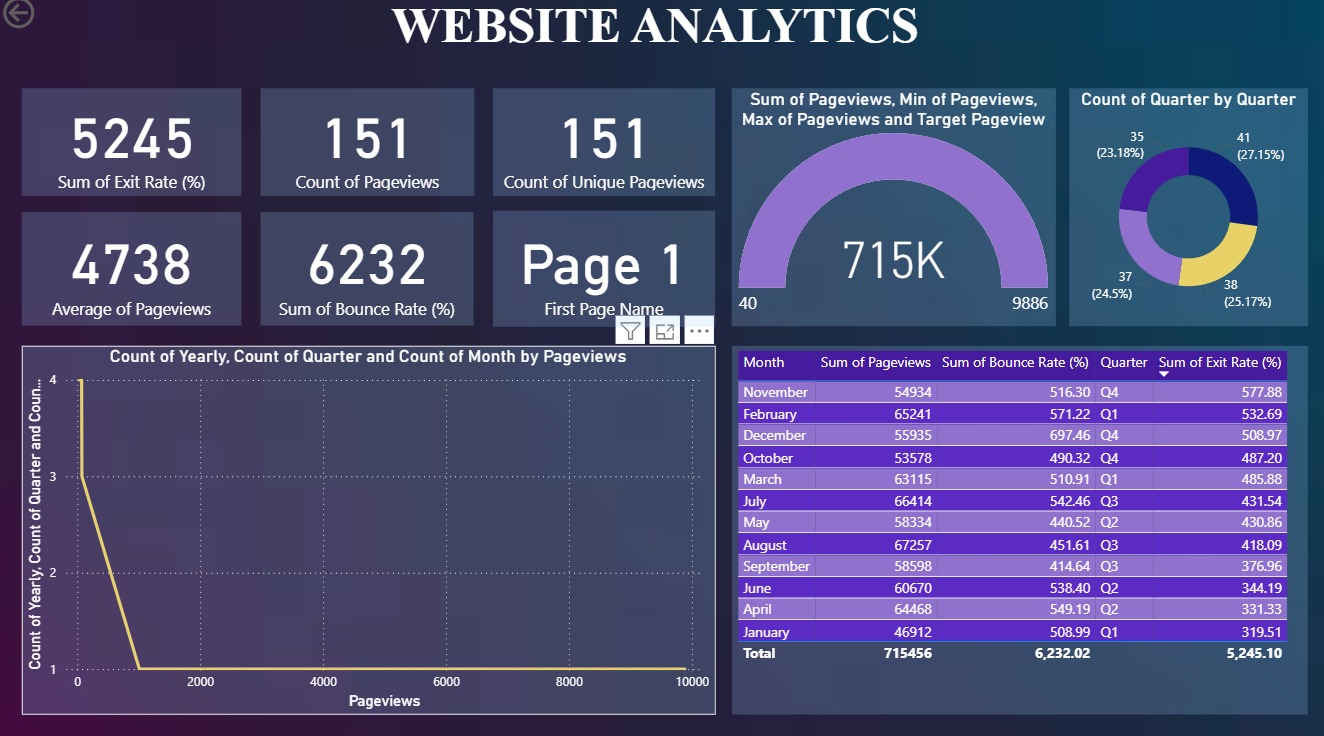

Layout of this report page (visuals, bound fields, positions):
{"tool":"powerbi","page":{"name":"Page 2","canvas":[1280,720],"ordinal":1},"visuals":[{"type":"actionButton","box":[0,0,100,40],"z":0},{"type":"card","fields":{"Values":["CountNonNull(website.Pageviews)"]},"box":[253.4,92.9,206.3,103.8],"z":1000},{"type":"card","fields":{"Values":["CountNonNull(website.Unique Pageviews)"]},"box":[477.8,92.9,214.7,103.8],"z":2000},{"type":"card","fields":{"Values":["Sum(website.Bounce Rate (%))"]},"box":[253.8,211.9,205.7,109.6],"z":3000},{"type":"card","fields":{"Values":["Sum(website.Exit Rate (%))"]},"box":[22.9,92.9,212.3,103.8],"z":4000},{"type":"lineChart","fields":{"Category":["website.Pageviews"],"Y":["CountNonNull(website.Yearly Hierarchy.Yearly)","CountNonNull(website.Yearly Hierarchy.Quarter)","CountNonNull(website.Yearly Hierarchy.Month)"]},"box":[23.4,341.3,669,356],"z":5000},{"type":"gauge","fields":{"TargetValue":["website.Target Pageview"],"Y":["Sum(website.Pageviews)"],"MinValue":["Min(website.Pageviews)"],"MaxValue":["Max(website.Pageviews)"]},"box":[708.2,92.9,312.5,229.2],"z":6000},{"type":"tableEx","fields":{"Values":["website.Month","Sum(website.Pageviews)","Sum(website.Bounce Rate (%))","website.Quarter","Sum(website.Exit Rate (%))"]},"box":[708.2,341.4,556.2,355.9],"z":7000},{"type":"card","fields":{"Values":["Avg(website.Pageviews)"]},"box":[23.4,211.9,211.9,109.6],"z":8000},{"type":"card","fields":{"Values":["Min(website.Page Name)"]},"box":[478,210.7,214.4,112.1],"z":9000},{"type":"textbox","box":[0,0,1280,82.5],"z":10000},{"type":"donutChart","fields":{"Category":["website.Quarter"],"Y":["CountNonNull(website.Quarter)"]},"box":[1033.9,92.9,230.4,229.2],"z":11000}]}

Visuals, with their boxes in screenshot pixels (x1, y1, x2, y2), scaled from the page's 1280x720 canvas onto the 1324x736 screenshot:
actionButton: l=0, t=0, r=103, b=41
card - CountNonNull(website.Pageviews): l=262, t=95, r=476, b=201
card - CountNonNull(website.Unique Pageviews): l=494, t=95, r=716, b=201
card - Sum(website.Bounce Rate (%)): l=263, t=217, r=475, b=329
card - Sum(website.Exit Rate (%)): l=24, t=95, r=243, b=201
lineChart - website.Pageviews x CountNonNull(website.Yearly Hierarchy.Yearly): l=24, t=349, r=716, b=713
gauge - website.Target Pageview x Sum(website.Pageviews): l=733, t=95, r=1056, b=329
tableEx - website.Month x Sum(website.Pageviews): l=733, t=349, r=1308, b=713
card - Avg(website.Pageviews): l=24, t=217, r=243, b=329
card - Min(website.Page Name): l=494, t=215, r=716, b=330
textbox: l=0, t=0, r=1323, b=84
donutChart - website.Quarter x CountNonNull(website.Quarter): l=1069, t=95, r=1308, b=329
